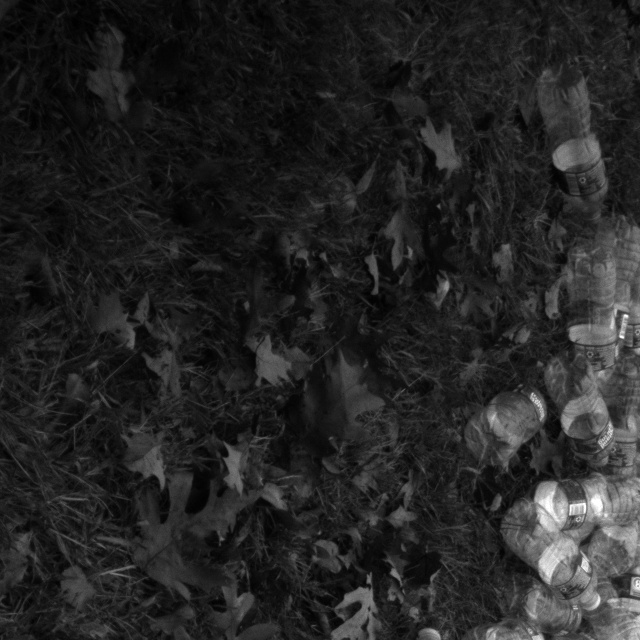bottle: (534, 60, 613, 225), (495, 495, 600, 609), (458, 376, 552, 474), (565, 247, 624, 387), (546, 351, 615, 470), (521, 477, 639, 537)
